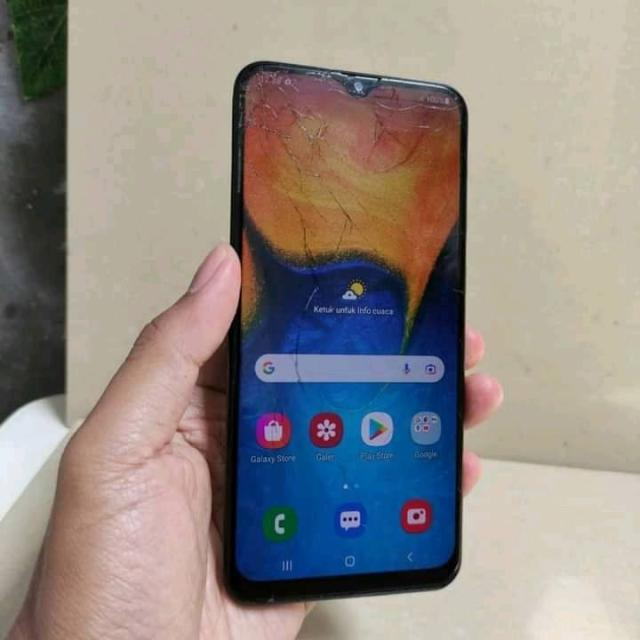phone: (231, 62, 464, 584)
